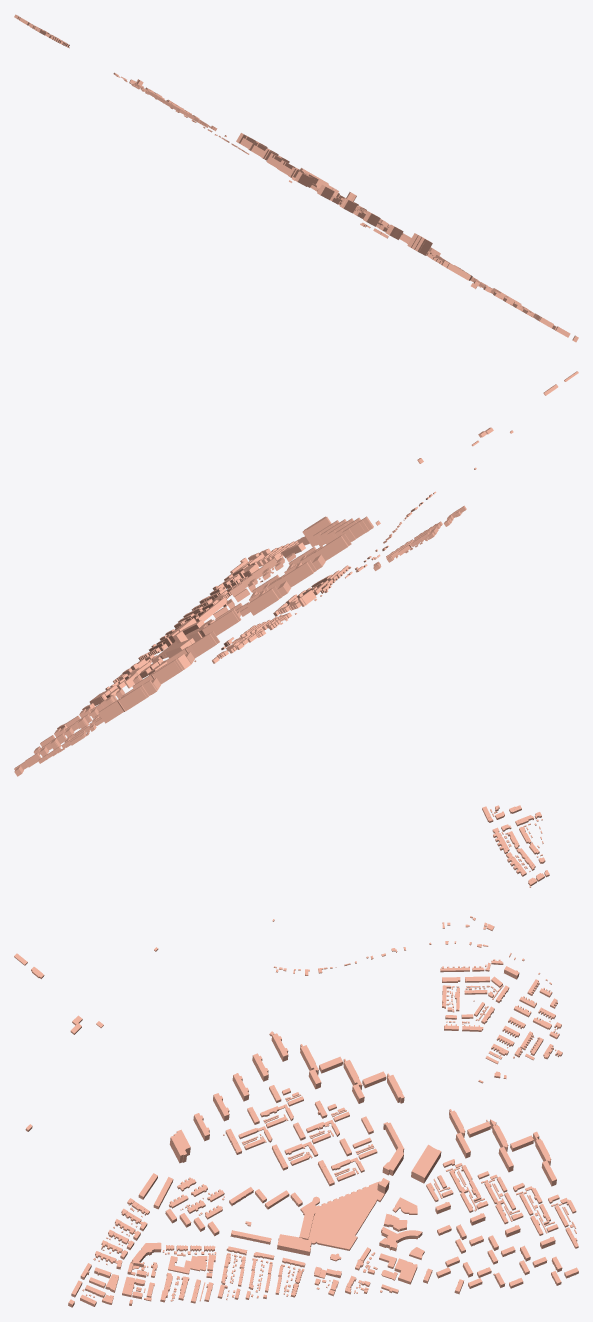
The picture shows the model from 3 angles, top to bottom: view 1: azimuth 30°, elevation 25°; view 2: azimuth 150°, elevation 25°; view 3: azimuth 270°, elevation 25°; orthographic projection. The views are drawn at different scales.
Bounding box in the file's own units: 1056 × 747 × 1254.
